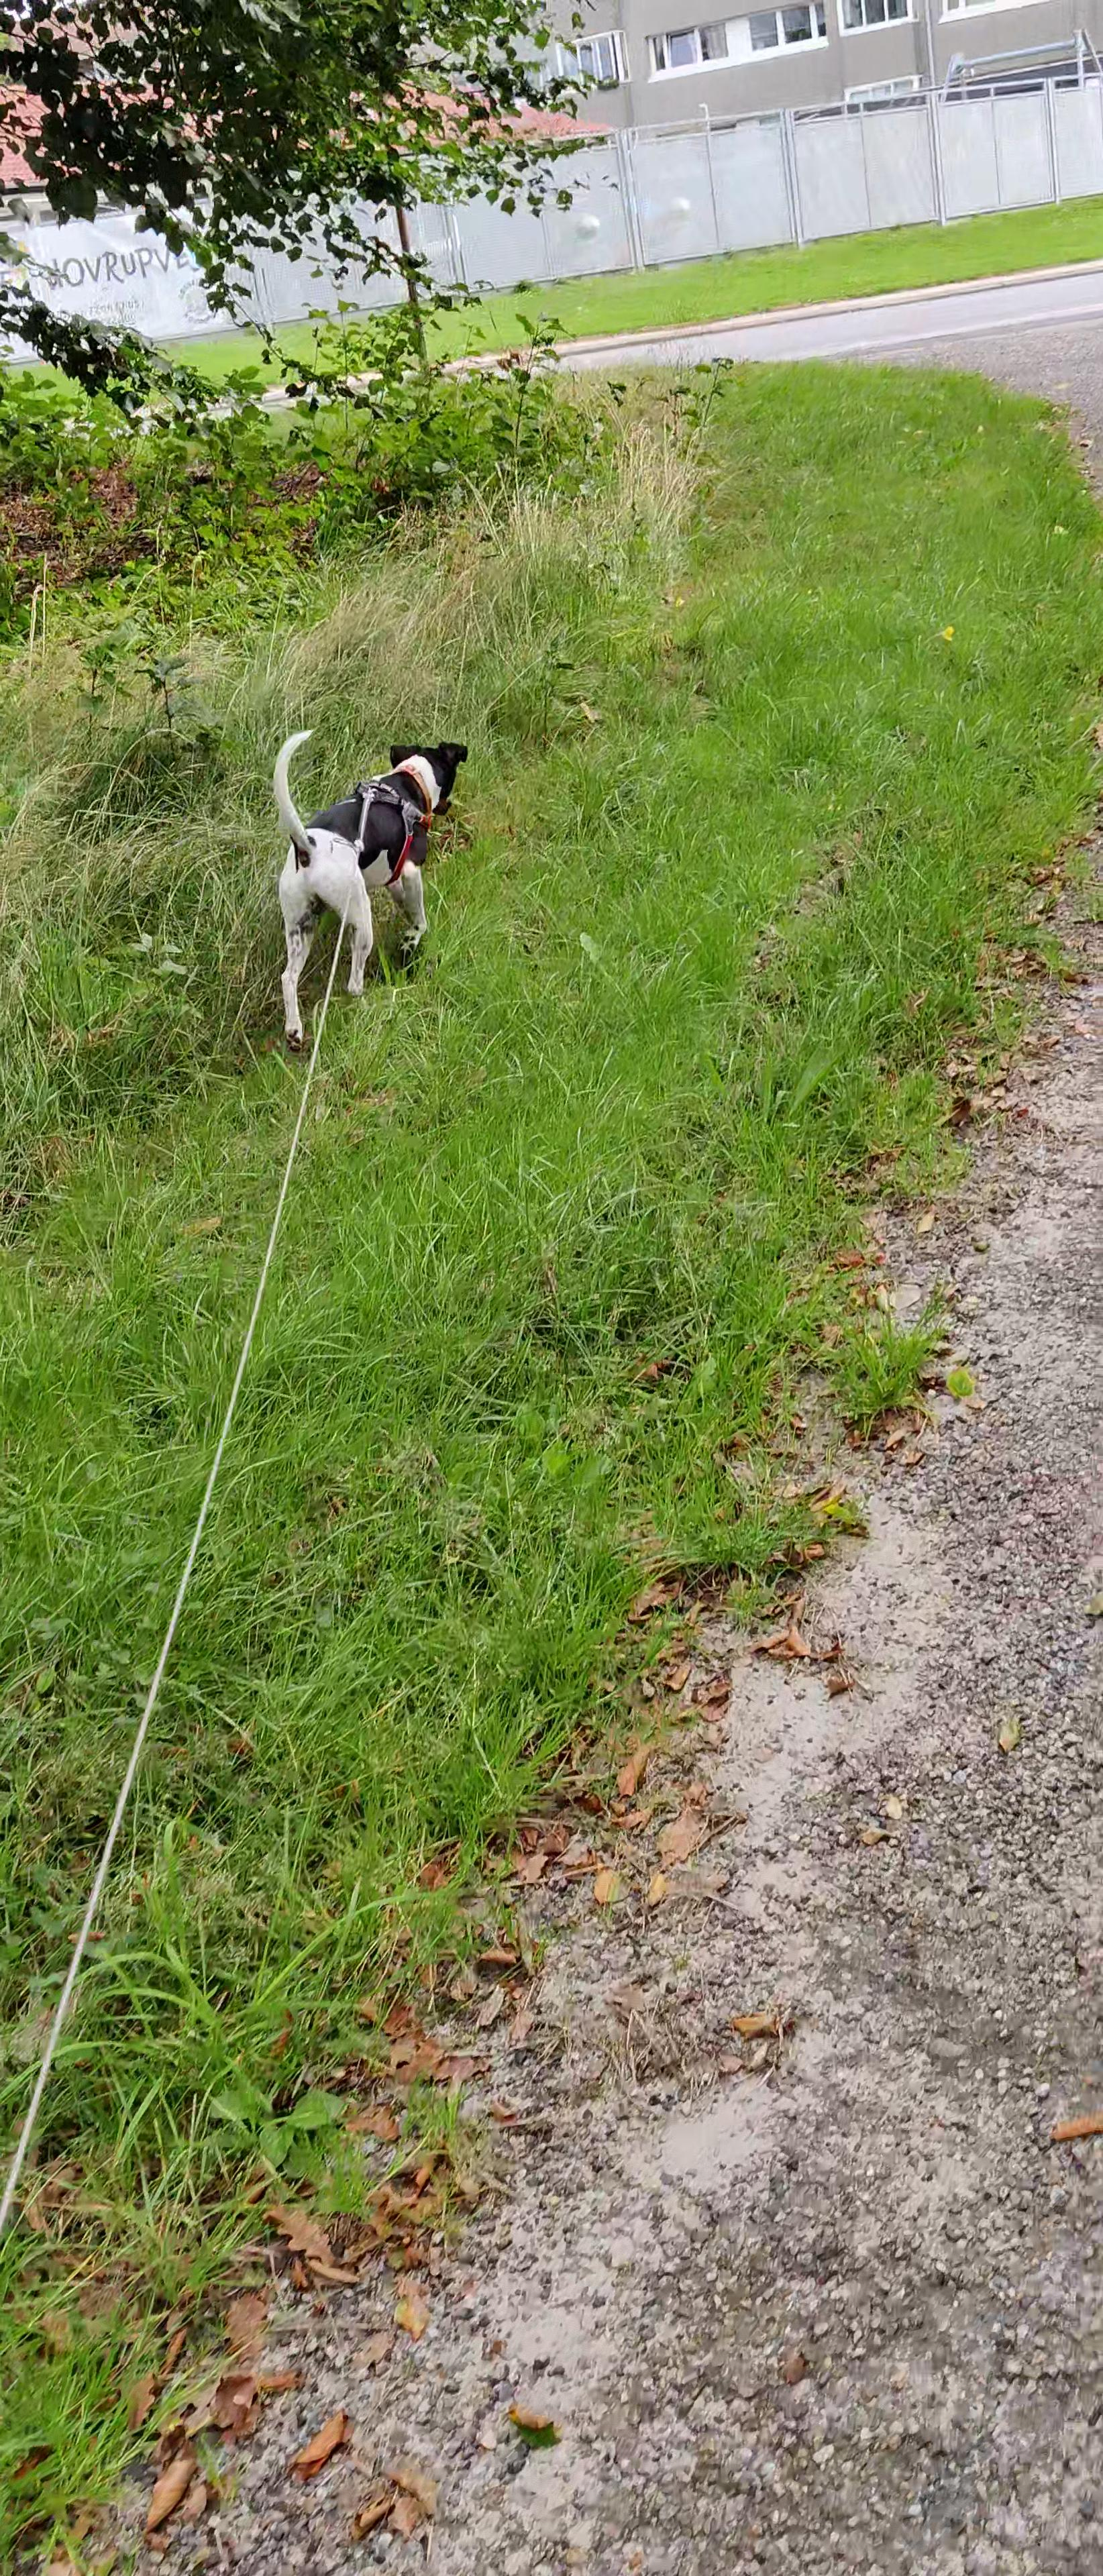Dog: (245, 710, 483, 1060)
